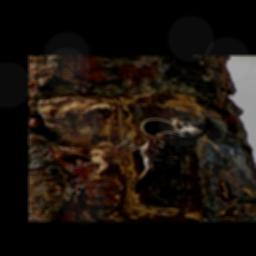Woodpecker: (115, 118, 210, 193)
